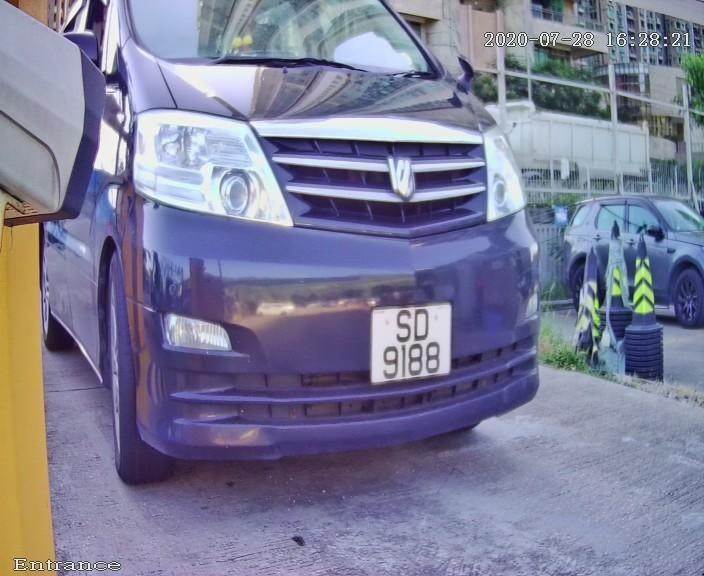privatecar: (37, 1, 555, 493)
